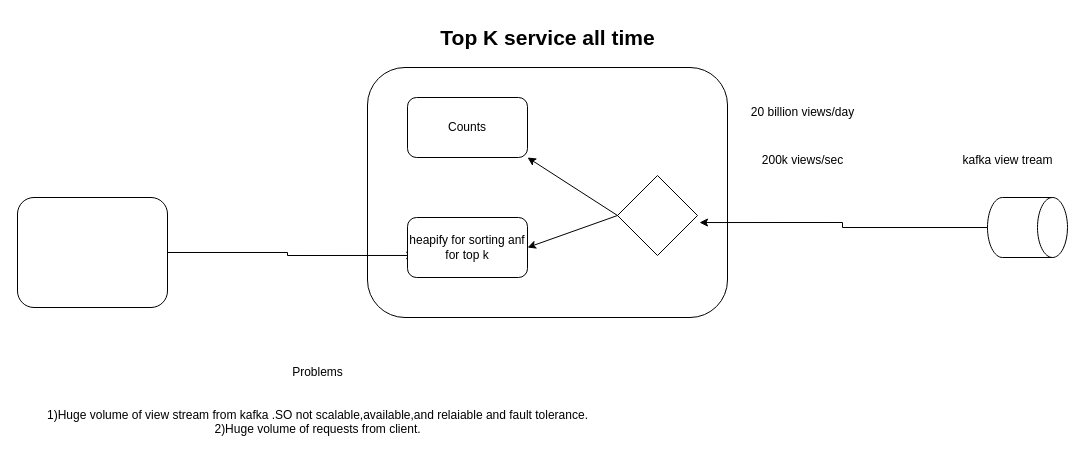
Image size: 1085x462. Some labels were removed from this diagram. The shapes that lost their labels are listed below. From the top down, each one's centre as x and y in pixels, then its label:
point 657,215: Views
point 92,252: client
